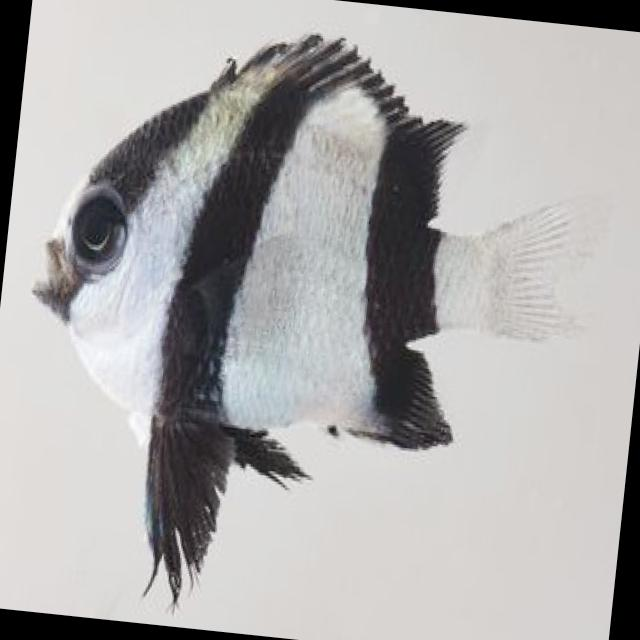ThreeStripedDamselfish: (31, 34, 570, 606)
